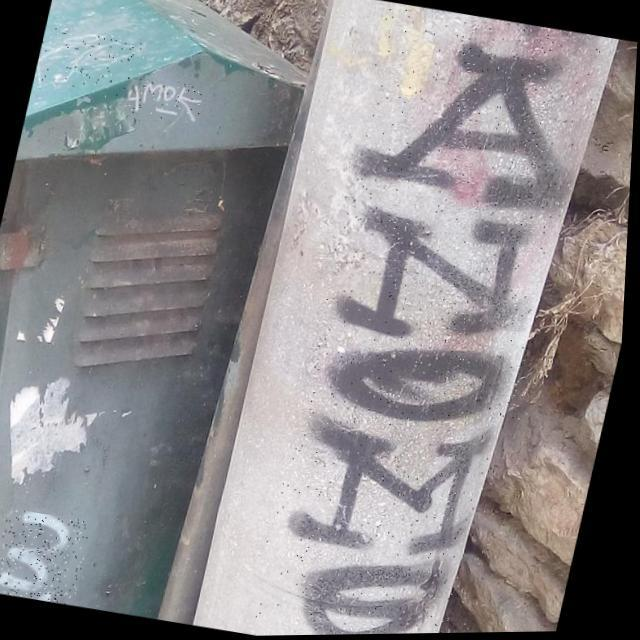-: (252, 0, 608, 637), (0, 507, 98, 606), (33, 26, 148, 102), (122, 74, 206, 126)
